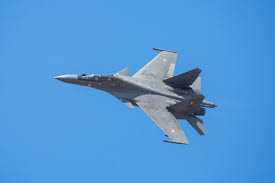maybay_muctieu: (50, 46, 216, 152)
